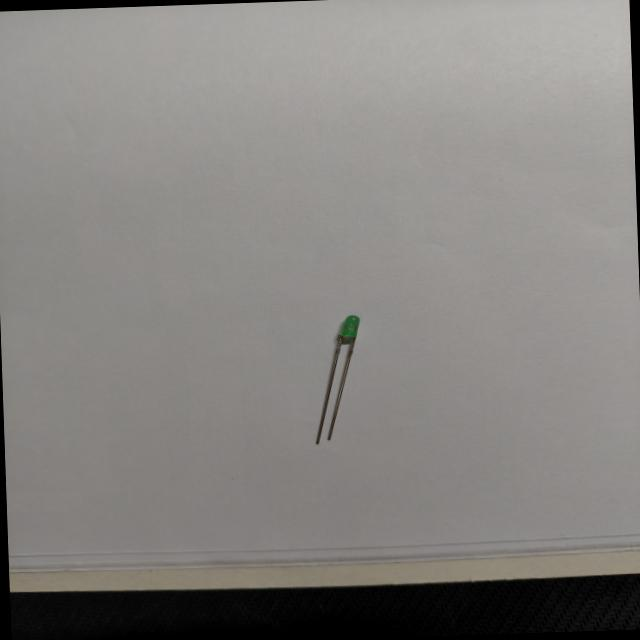led: (294, 306, 374, 458)
